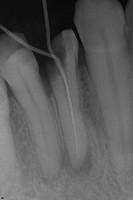Furcation Involvement: (41, 144, 93, 184)
